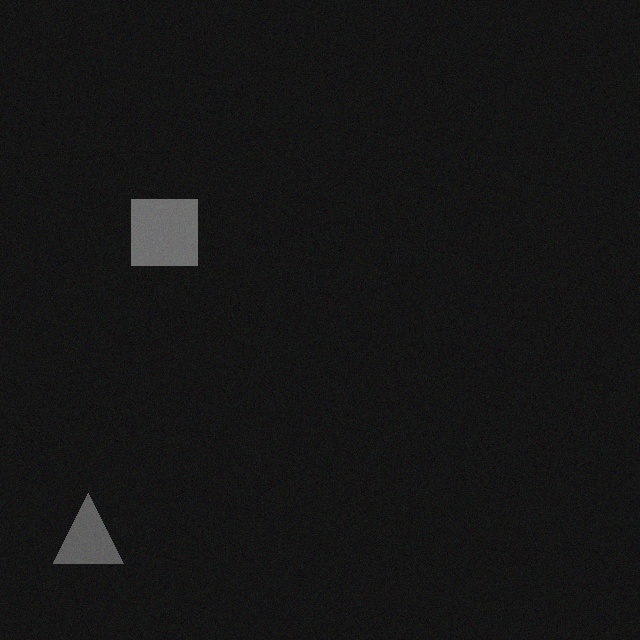square: (144, 209, 210, 275)
triangle: (66, 503, 136, 573)
